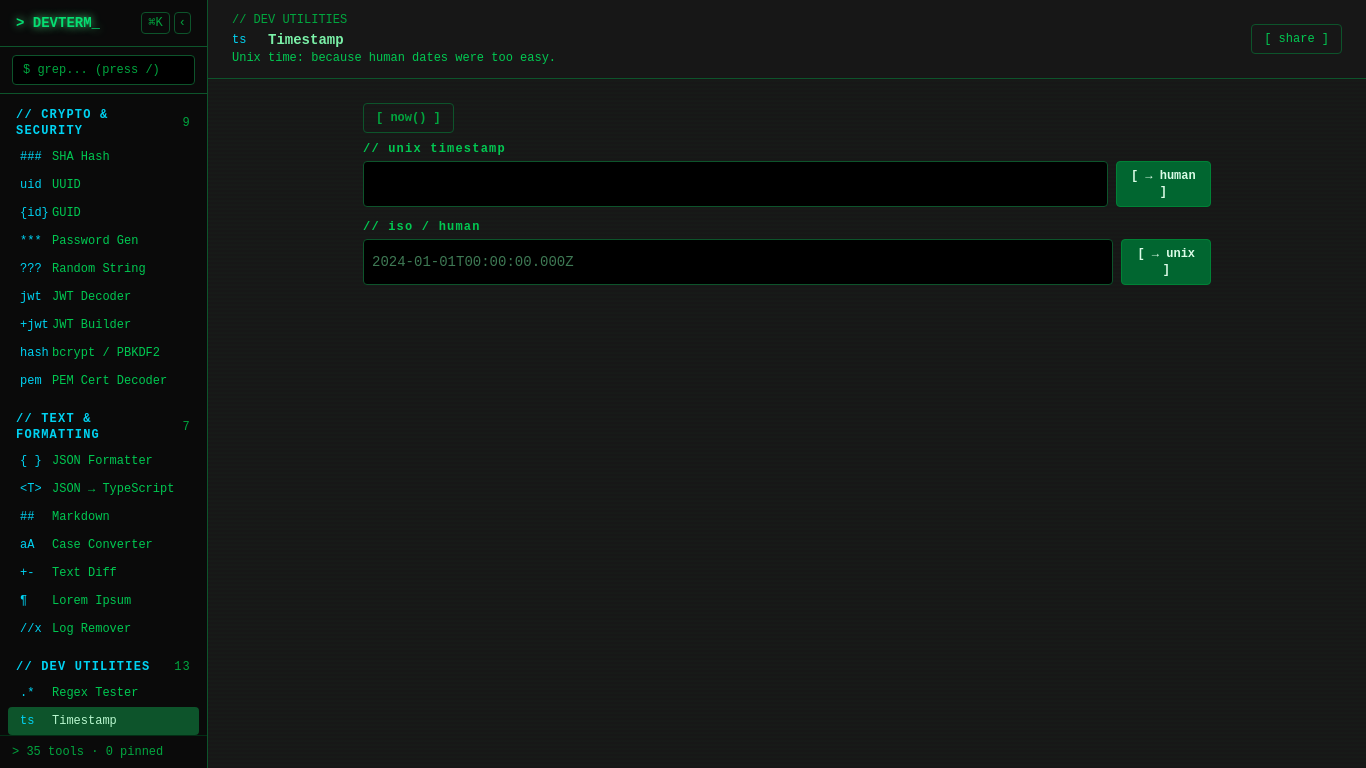
it: Timestamp Tool › converts ISO date back to unix
(page scrolled)
expect the element that starts with "[ now() ]" is shown: met, box [363,103,1211,285]
Type "1970-01-01T00:00:00.000Z" into the field with placeholder "2024-01-01T00:00:00.000Z" at (739, 262), box [363,239,1114,285]
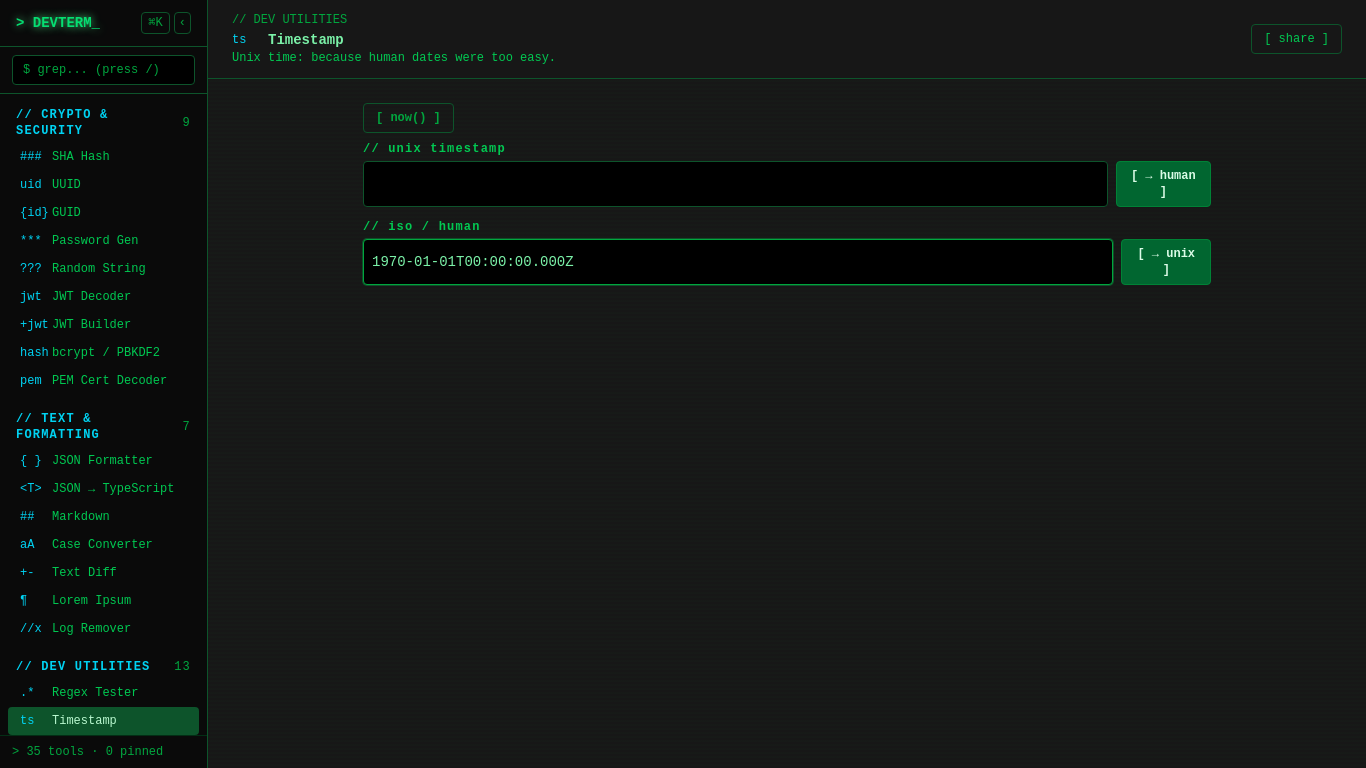
Click the button "[ → unix ]" at (1167, 262), box [1122,239,1212,285]
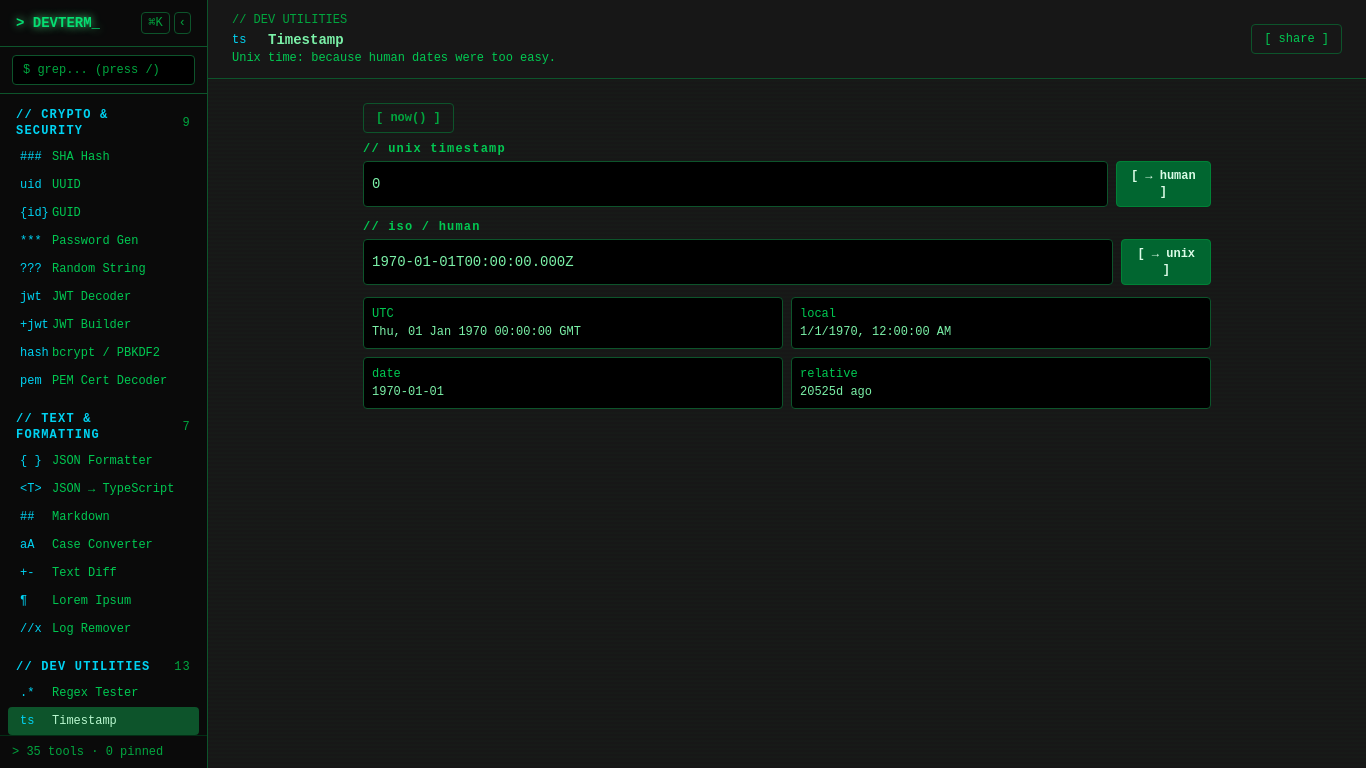
expect the 2nd field holds "0": met, box [363,161,1108,207]
